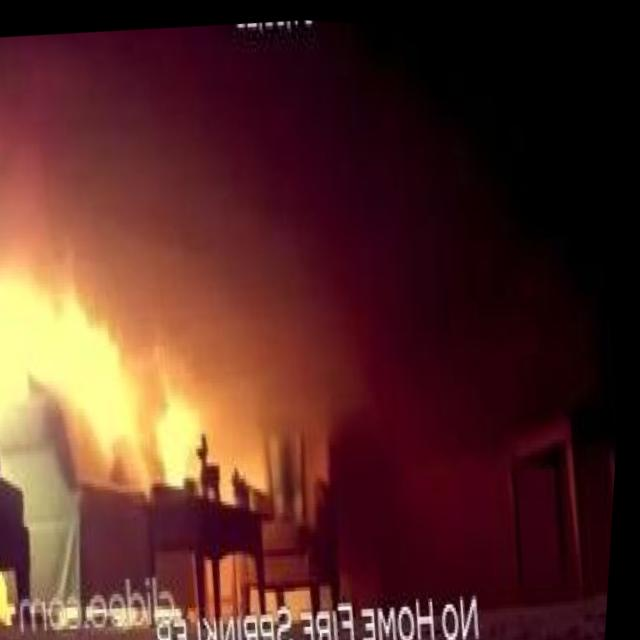fire: (0, 244, 147, 413), (61, 294, 162, 472), (147, 381, 211, 486)
